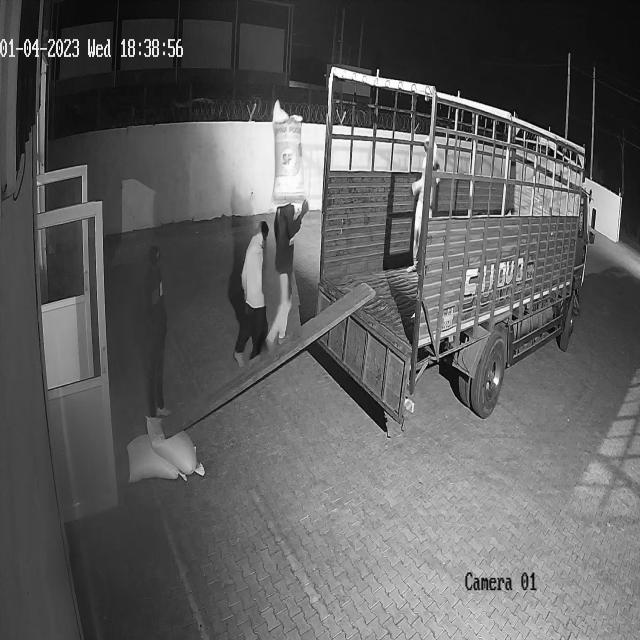sack: (270, 98, 305, 213), (145, 413, 205, 475), (127, 432, 185, 482)
